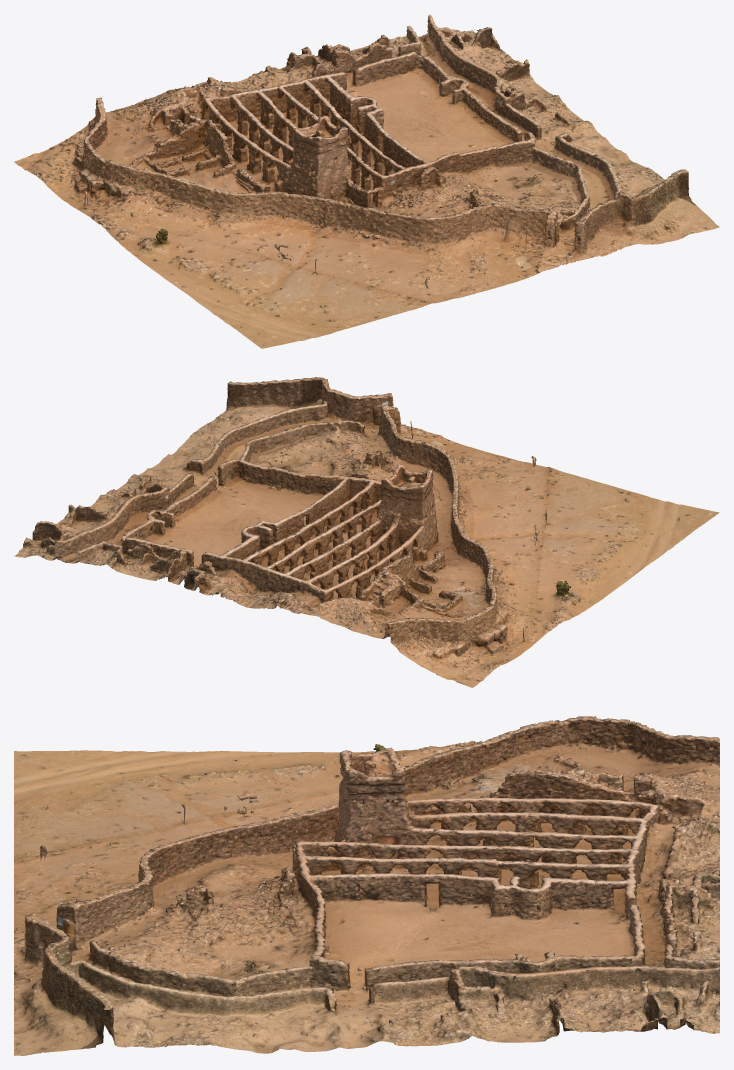
3 renders of one model, top to bottom at view 1: azimuth 30°, elevation 25°; view 2: azimuth 150°, elevation 25°; view 3: azimuth 270°, elevation 25°, orthographic. The views are drawn at different scales.
Visible parts, largest first — view 1: MRT_001_M4_Mosquee; view 2: MRT_001_M4_Mosquee; view 3: MRT_001_M4_Mosquee.
Part boxes in pixels (left/top/right/bottom): MRT_001_M4_Mosquee: left=14, top=14, right=719, bottom=348; MRT_001_M4_Mosquee: left=14, top=377, right=719, bottom=687; MRT_001_M4_Mosquee: left=14, top=716, right=719, bottom=1055.
Size of the model in its own units: 52.32 by 9.54 by 48.97.
1 material, 1 textured.
